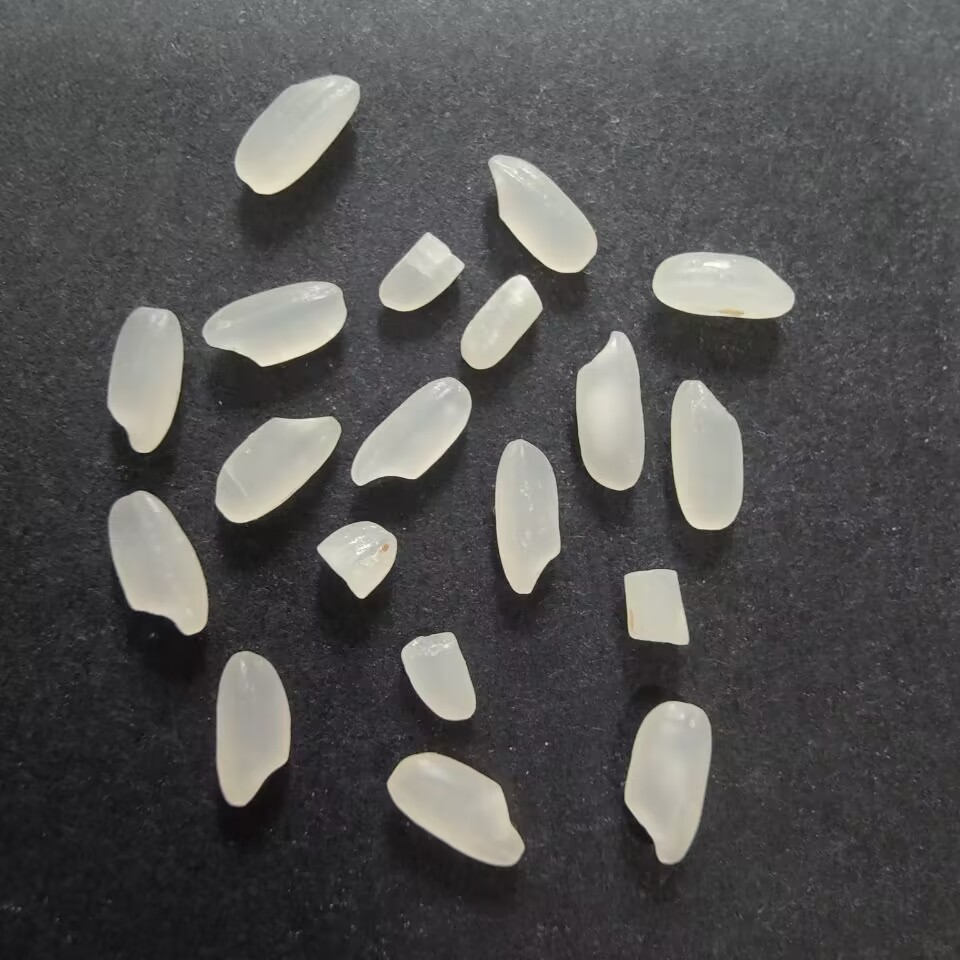broken: (458, 268, 546, 373), (371, 229, 472, 318), (396, 626, 482, 728), (311, 516, 405, 603), (611, 563, 700, 652)
rice: (379, 750, 528, 872), (229, 68, 365, 200), (105, 486, 215, 639), (621, 694, 717, 866), (344, 370, 476, 490), (210, 408, 344, 526), (484, 148, 602, 277), (211, 645, 298, 817), (199, 275, 352, 372), (101, 304, 191, 459), (667, 374, 751, 535), (571, 327, 649, 497), (491, 434, 570, 599), (646, 244, 802, 323)
